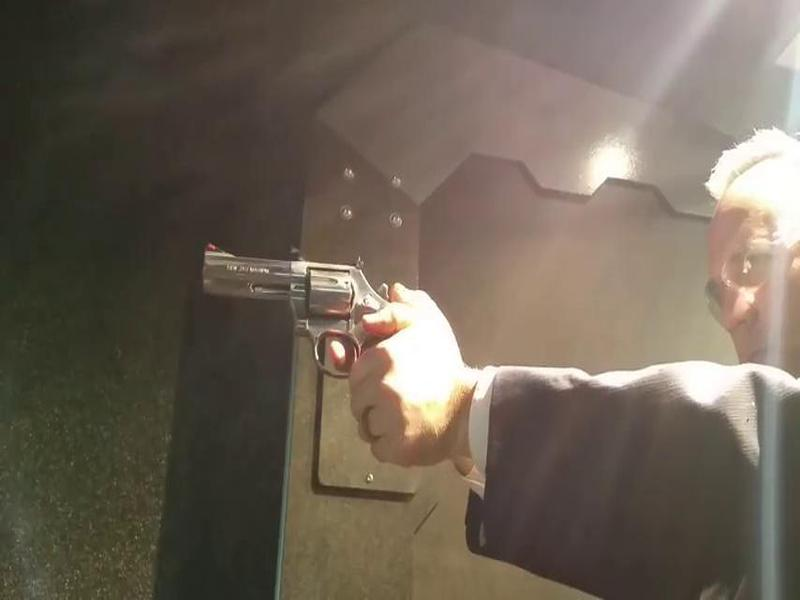Revolver: (184, 234, 404, 390)
